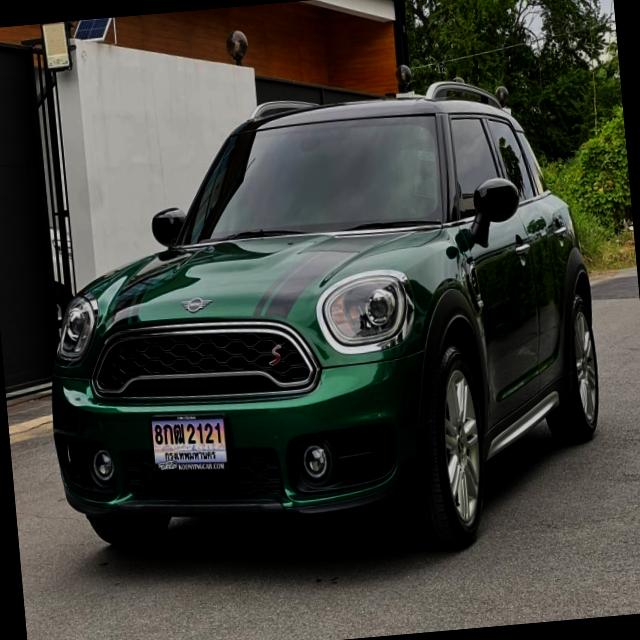license_plate: (148, 400, 233, 478)
